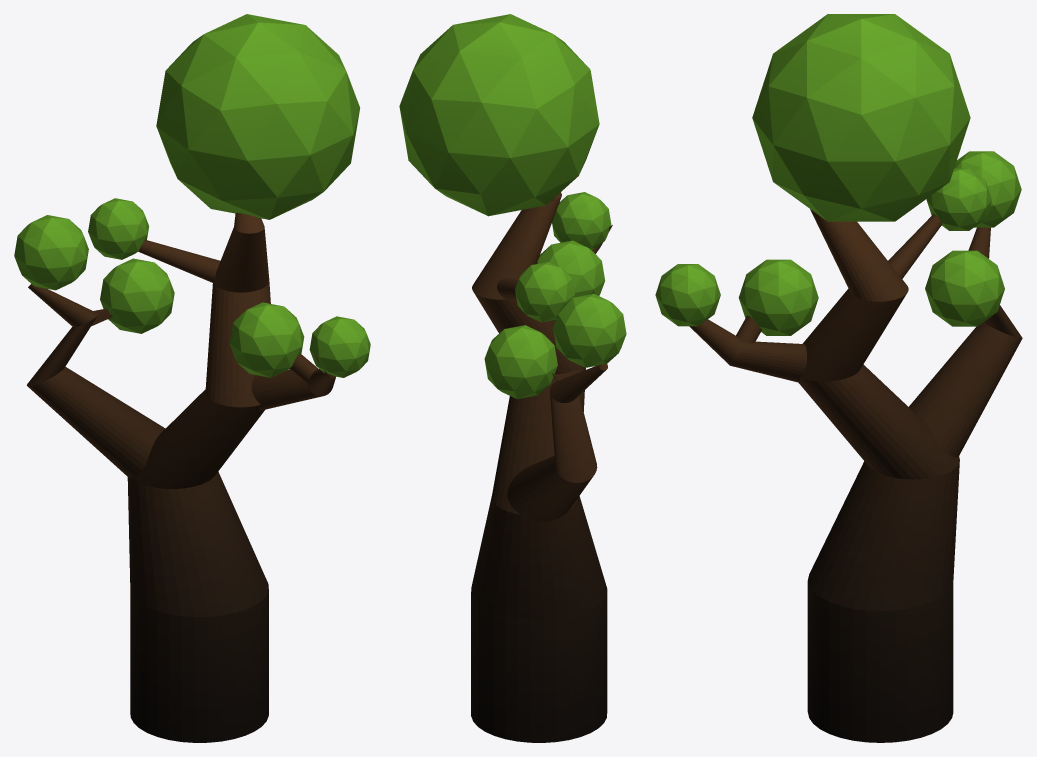
The model's file is env_tree_rileySteptoe_v02.glb.
3 views of the same model, side by side, from view 1: azimuth 30°, elevation 25°; view 2: azimuth 150°, elevation 25°; view 3: azimuth 270°, elevation 25° (orthographic). The views are drawn at different scales.
Visible parts, largest first — view 1: Tree; view 2: Tree; view 3: Tree.
Part boxes in pixels (<box>): Tree: <box>14,14,370,742</box>; Tree: <box>399,14,626,742</box>; Tree: <box>655,14,1022,742</box>.
Bounding box in the file's own units: 4.43 × 10.89 × 5.04.
Materials: 1 (1 with a texture image).
